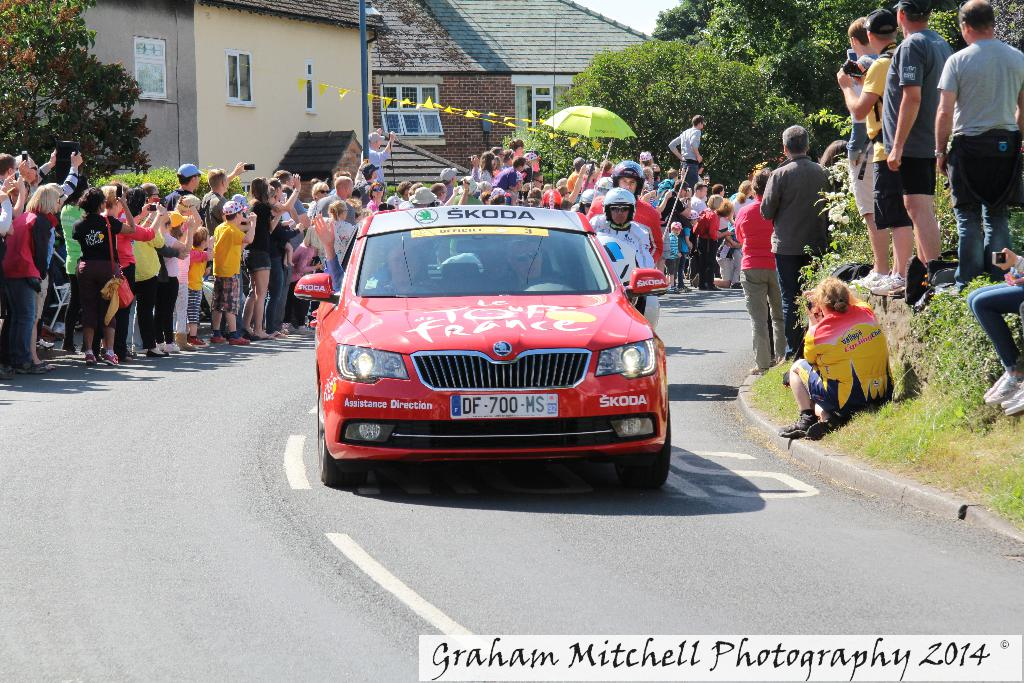cars: (282, 199, 673, 492)
